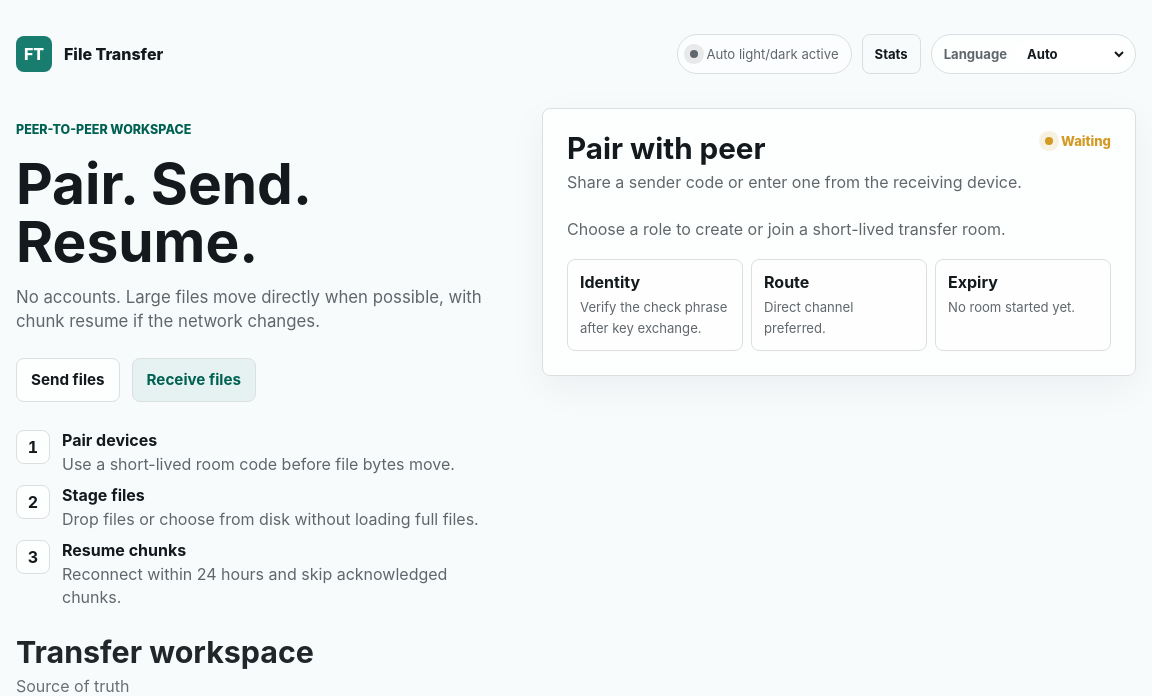
Test: App › reconnects the pairing socket with the recovery token after an unexpected close
This screenshot has width=1152, height=696.
Click the button "Send files" at (68, 380), box left=16, top=358, right=120, bottom=402
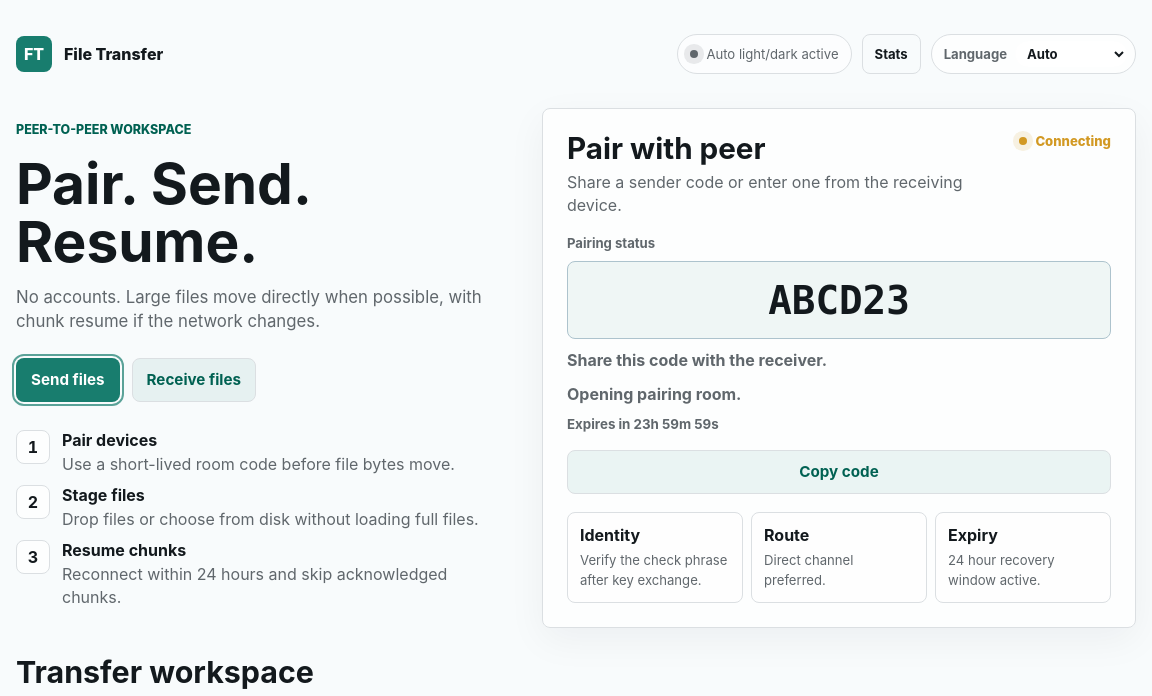
expect the text "Pairing connection dropped. Reconnecting." is shown: met, box left=567, top=384, right=742, bottom=404
